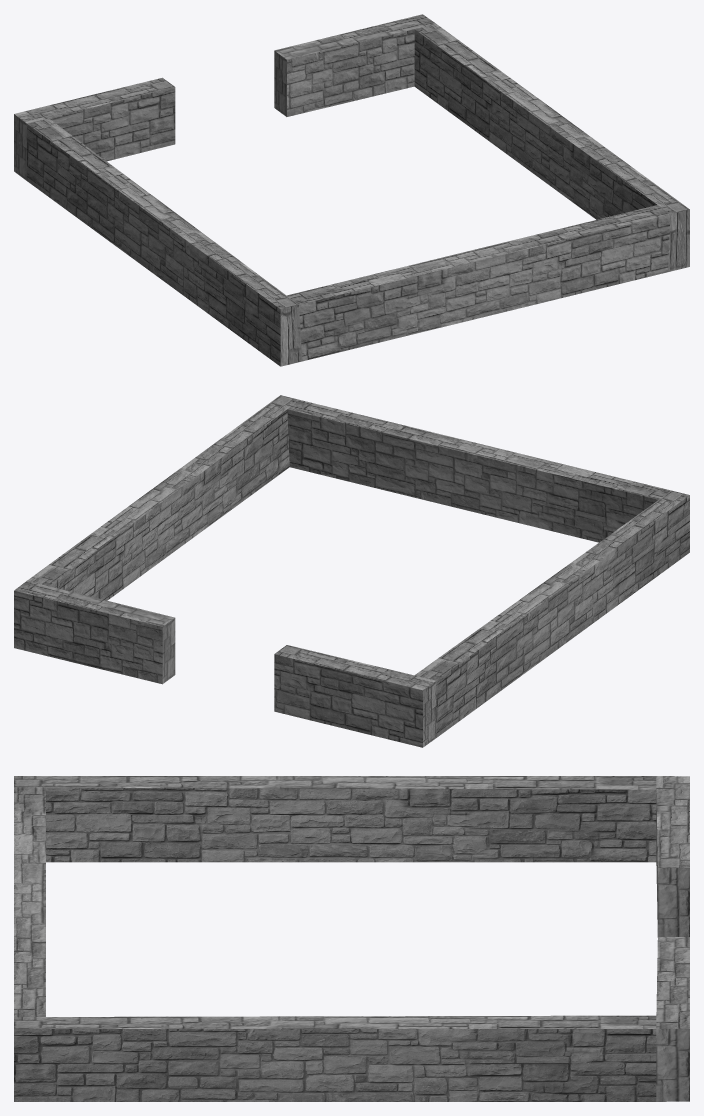
File: matching-room.glb
3 views of the same model, one above another, from view 1: azimuth 30°, elevation 25°; view 2: azimuth 150°, elevation 25°; view 3: azimuth 270°, elevation 25° (orthographic). The views are drawn at different scales.
Visible parts, largest first — view 1: Cube.009; view 2: Cube.009; view 3: Cube.009.
Part boxes in pixels (x1,y1,x2,y2): Cube.009: (14, 14, 689, 366); Cube.009: (14, 395, 689, 747); Cube.009: (14, 776, 689, 1101).
Bounding box in the file's own units: 7.46 × 1 × 8.42.
1 material, 1 textured.
